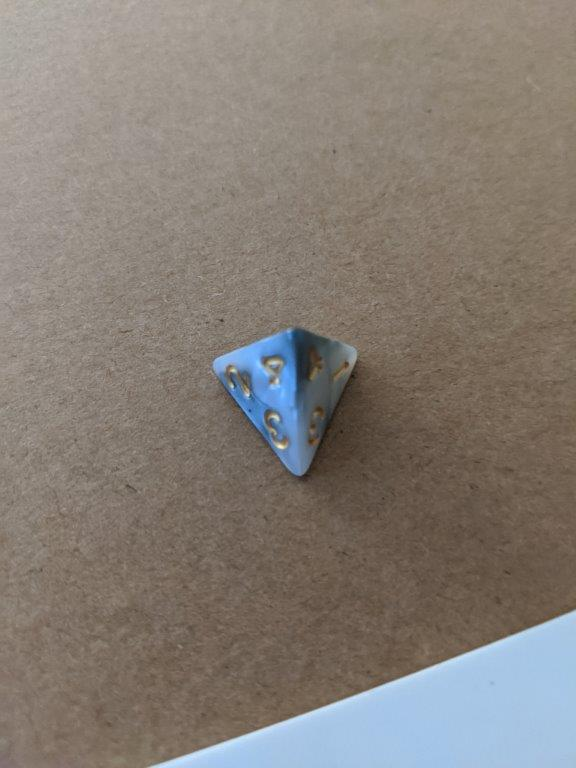d4-4: (207, 325, 364, 479)
